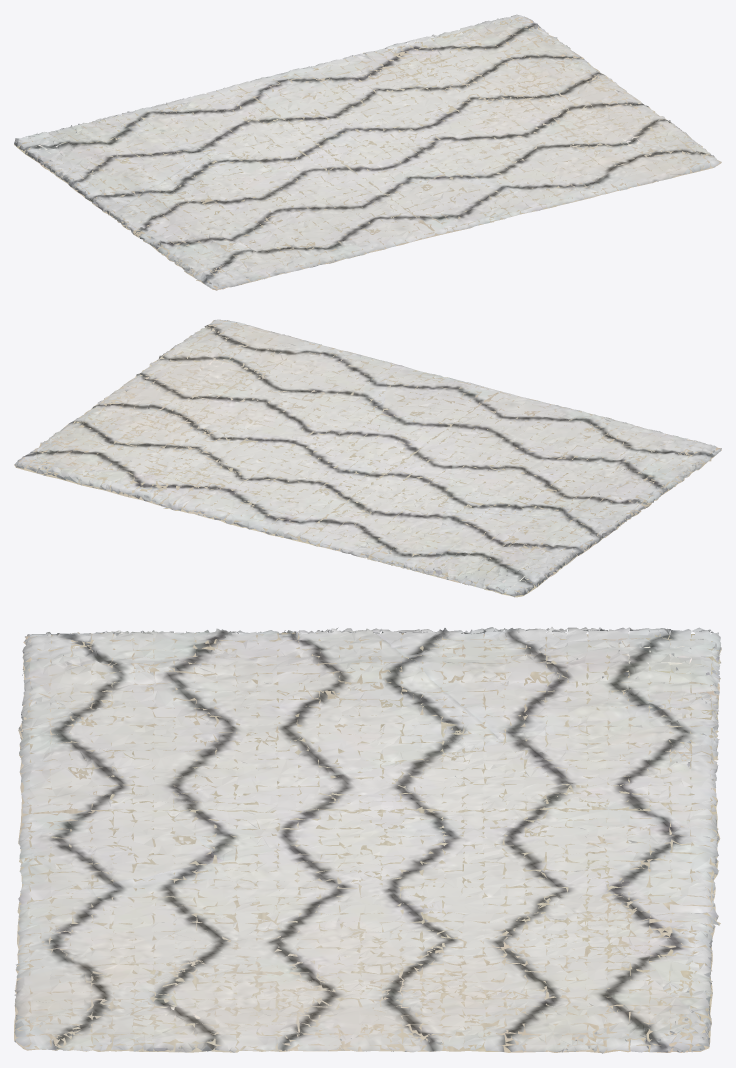
File: rug.glb
3 renders of one model, top to bottom at view 1: azimuth 30°, elevation 25°; view 2: azimuth 150°, elevation 25°; view 3: azimuth 270°, elevation 25°, orthographic. The views are drawn at different scales.
Parts seen in each view (by area): view 1: Ojai Rug Top, Ojai Rug Bottom; view 2: Ojai Rug Top, Ojai Rug Bottom; view 3: Ojai Rug Top, Ojai Rug Bottom.
Part boxes in pixels (x1,y1,x2,y2): Ojai Rug Top: (14, 14, 720, 290); Ojai Rug Bottom: (14, 17, 721, 290); Ojai Rug Top: (14, 319, 721, 597); Ojai Rug Bottom: (14, 320, 721, 597); Ojai Rug Top: (14, 627, 721, 1053); Ojai Rug Bottom: (14, 632, 721, 1053).
Size of the model in its own units: 2.28 by 0.0464 by 1.59.
Materials: 2 (2 with a texture image).
